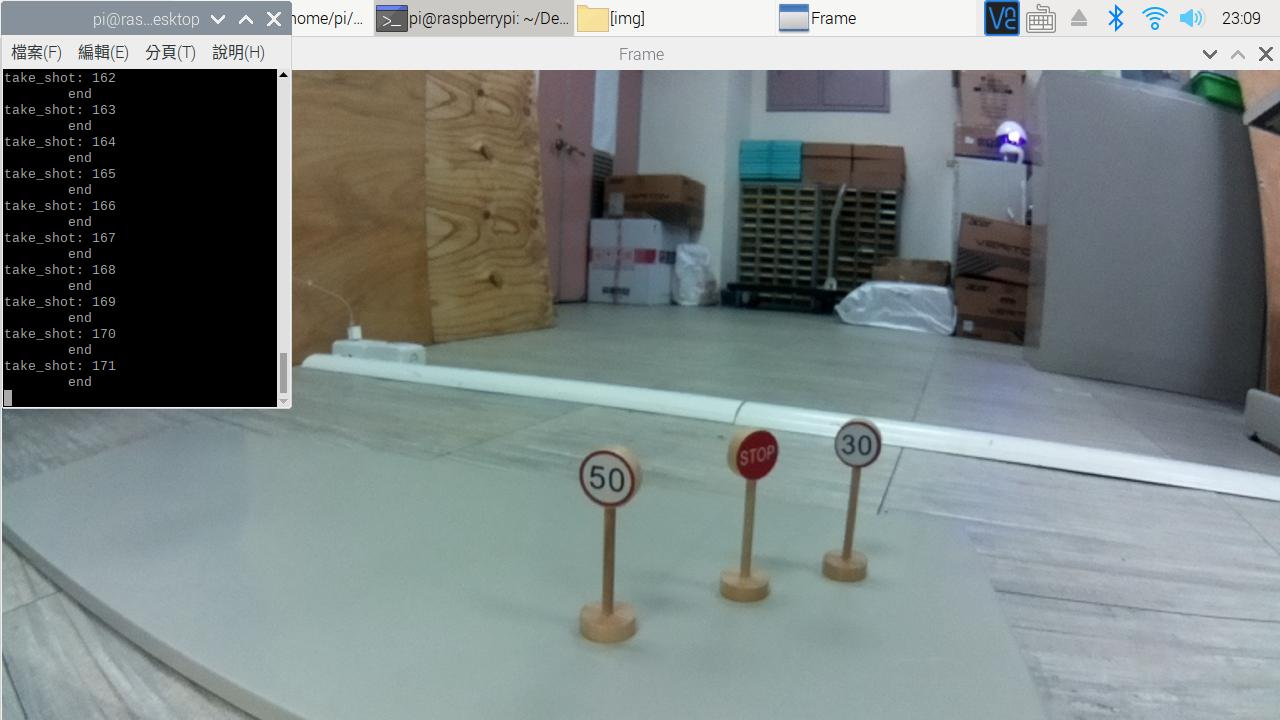Speed30: (823, 410, 893, 473)
Speed50: (576, 444, 650, 516)
Stop: (717, 429, 794, 496)
